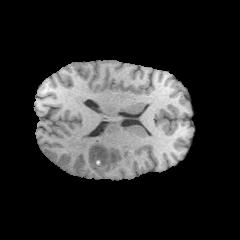glioma: (55, 134, 132, 177)
